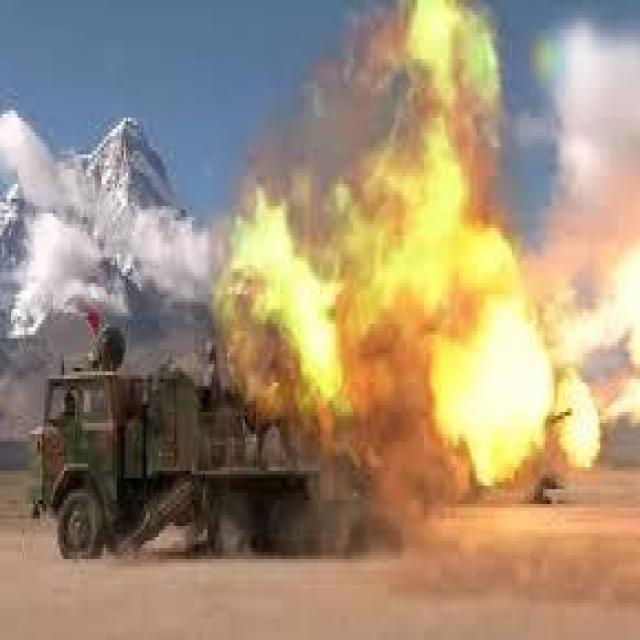MIL_MBT: (33, 353, 362, 592)
